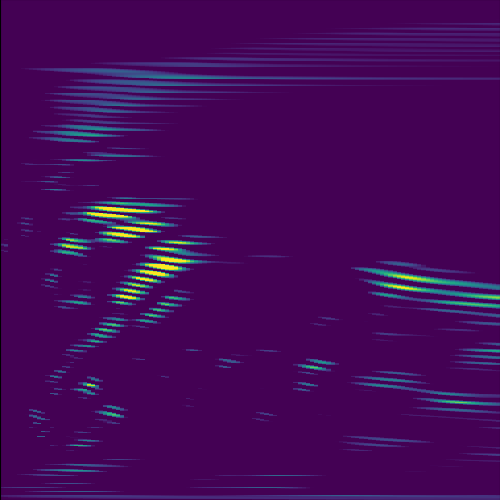semblance: (126, 238, 207, 282), (69, 199, 173, 224), (98, 218, 176, 246)
